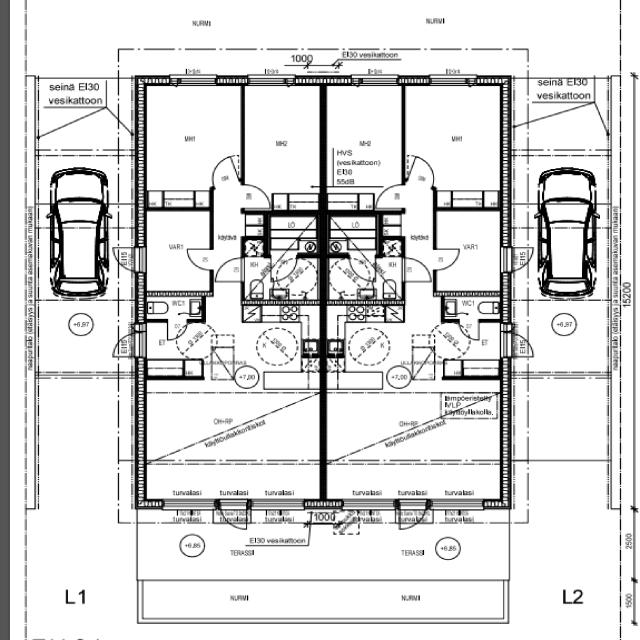door: (435, 320, 495, 364), (406, 153, 438, 185), (210, 152, 241, 185), (397, 499, 427, 530), (401, 255, 433, 284), (213, 256, 246, 284), (202, 252, 235, 278), (241, 181, 272, 208), (184, 246, 216, 272), (219, 500, 247, 529), (375, 182, 403, 210), (432, 246, 462, 271), (506, 334, 536, 358), (509, 247, 533, 273), (114, 248, 137, 272), (458, 319, 481, 342), (113, 334, 135, 358), (166, 320, 188, 341), (499, 246, 514, 273)
window: (169, 72, 219, 90), (428, 496, 488, 510), (427, 73, 477, 89), (246, 73, 296, 89), (158, 497, 216, 510), (350, 73, 400, 88), (250, 497, 307, 510), (40, 370, 102, 381), (337, 497, 393, 509), (500, 245, 513, 274), (137, 247, 148, 274)
zone: (405, 83, 504, 199), (143, 83, 242, 198), (242, 82, 323, 206), (324, 83, 404, 205), (229, 302, 317, 389), (516, 300, 612, 376), (525, 378, 610, 463), (34, 301, 129, 376), (332, 303, 408, 389), (142, 209, 212, 297), (434, 209, 504, 296), (423, 321, 503, 377), (244, 251, 322, 302), (327, 253, 403, 304), (147, 321, 214, 360), (327, 214, 378, 255), (268, 214, 320, 254), (441, 296, 502, 320), (144, 297, 203, 321), (248, 499, 311, 518), (145, 360, 188, 378), (252, 498, 308, 510)
